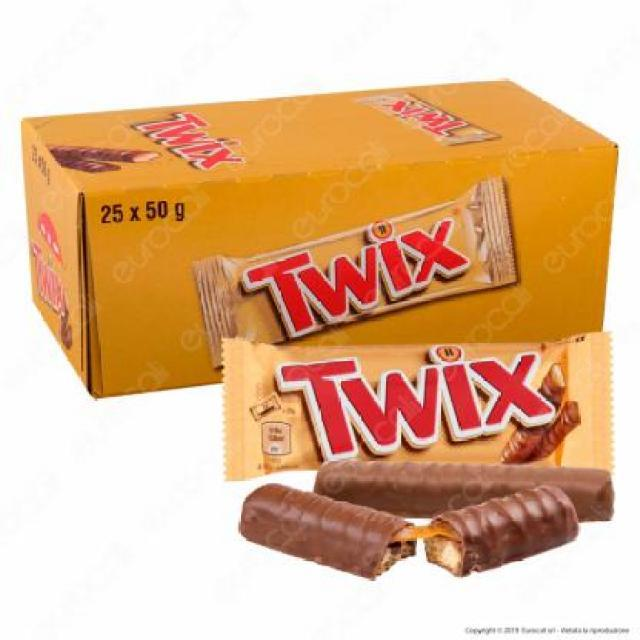Chocolate bar: (213, 334, 621, 482)
Chocolate bar packaged: (238, 482, 580, 580), (314, 459, 618, 524)
